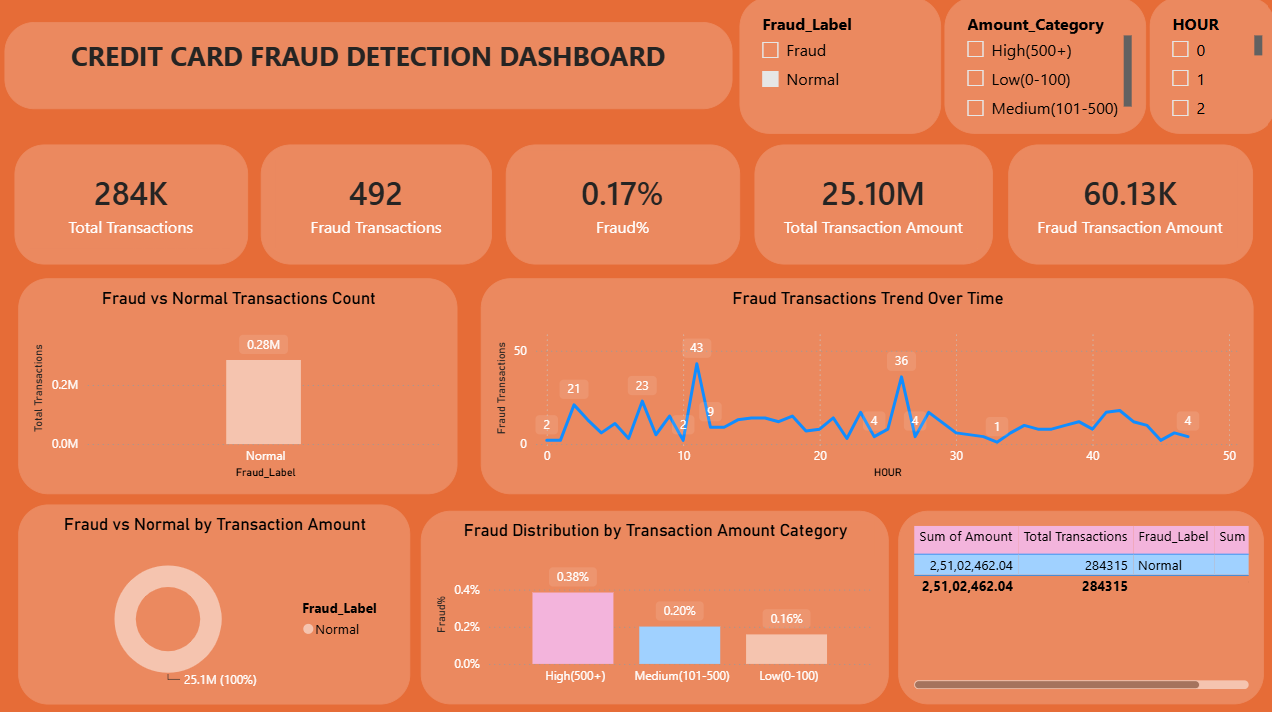

What the dashboard file says about the page in this screenshot:
{"tool":"powerbi","page":{"name":"Page 1","canvas":[1280,720],"ordinal":0},"visuals":[{"type":"cardVisual","fields":{"Data":["creditcard.Total Transactions"]},"box":[17.5,147.4,233.5,119.9],"z":0},{"type":"cardVisual","fields":{"Data":["creditcard.Fraud Transactions"]},"box":[263.5,147.4,231,119.9],"z":1000},{"type":"cardVisual","fields":{"Data":["creditcard.Fraud%"]},"box":[508.3,147.4,234.8,119.9],"z":2000},{"type":"cardVisual","fields":{"Data":["creditcard.Total Transaction Amount"]},"box":[758,147.4,238.5,119.9],"z":3000},{"type":"cardVisual","fields":{"Data":["creditcard.Fraud Transaction Amount"]},"box":[1011.5,147.4,244.8,119.9],"z":4000},{"type":"clusteredColumnChart","title":"Fraud vs Normal Transactions Count","fields":{"Category":["creditcard.Fraud_Label"],"Y":["creditcard.Total Transactions"]},"box":[21.2,281,439.6,216],"z":5000},{"type":"donutChart","title":"Fraud vs Normal by Transaction Amount","fields":{"Category":["creditcard.Fraud_Label"],"Y":["Sum(creditcard.Amount)"]},"box":[21.2,507,392.1,199.8],"z":6000},{"type":"lineChart","title":"Fraud Transactions Trend Over Time","fields":{"Category":["creditcard.HOUR"],"Y":["creditcard.Fraud Transactions"]},"box":[483.3,281,773,216],"z":7000},{"type":"columnChart","title":"Fraud Distribution by Transaction Amount Category","fields":{"Category":["creditcard.Amount_Category"],"Y":["creditcard.Fraud%"]},"box":[423.3,513.2,468.3,193.6],"z":8000},{"type":"tableEx","fields":{"Values":["Sum(creditcard.Amount)","creditcard.Total Transactions","creditcard.Fraud_Label","Sum(creditcard.HOUR)"]},"box":[901.6,513.2,365.9,193.6],"z":9000},{"type":"textbox","box":[7.5,25,727.6,87.1],"z":10000},{"type":"slicer","fields":{"Values":["creditcard.Fraud_Label"]},"box":[743,0,201.7,136.5],"z":11000},{"type":"slicer","fields":{"Values":["creditcard.Amount_Category"]},"box":[947.7,0,201.7,136.5],"z":12000},{"type":"slicer","fields":{"Values":["creditcard.HOUR"]},"box":[1152.4,0,127.4,136.5],"z":13000}]}

Visuals, with their boxes in screenshot pixels (x1, y1, x2, y2), scaled from the page's 1280x720 canvas onto the 1272x712 screenshot:
cardVisual - creditcard.Total Transactions: (17, 146, 249, 264)
cardVisual - creditcard.Fraud Transactions: (262, 146, 491, 264)
cardVisual - creditcard.Fraud%: (505, 146, 738, 264)
cardVisual - creditcard.Total Transaction Amount: (753, 146, 990, 264)
cardVisual - creditcard.Fraud Transaction Amount: (1005, 146, 1248, 264)
"Fraud vs Normal Transactions Count" clusteredColumnChart: (21, 278, 458, 491)
"Fraud vs Normal by Transaction Amount" donutChart: (21, 501, 411, 699)
"Fraud Transactions Trend Over Time" lineChart: (480, 278, 1248, 491)
"Fraud Distribution by Transaction Amount Category" columnChart: (421, 507, 886, 699)
tableEx - Sum(creditcard.Amount) x creditcard.Total Transactions: (896, 507, 1260, 699)
textbox: (7, 25, 731, 111)
slicer - creditcard.Fraud_Label: (738, 0, 939, 135)
slicer - creditcard.Amount_Category: (942, 0, 1142, 135)
slicer - creditcard.HOUR: (1145, 0, 1271, 135)
